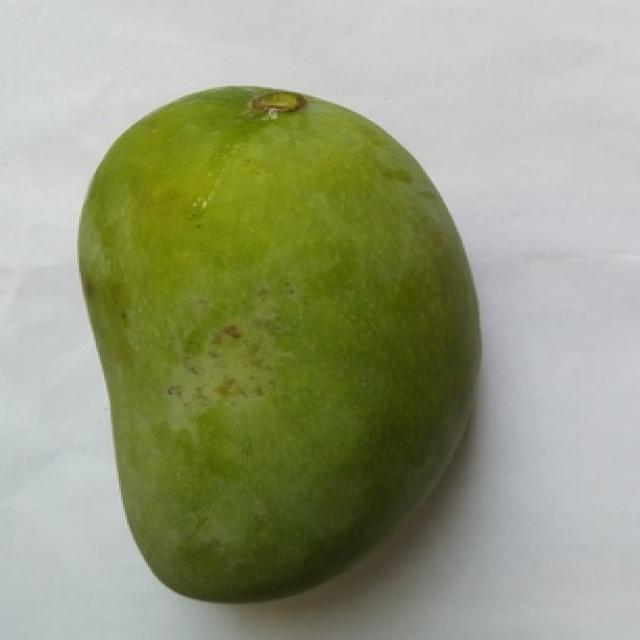Mango: (79, 87, 475, 601)
